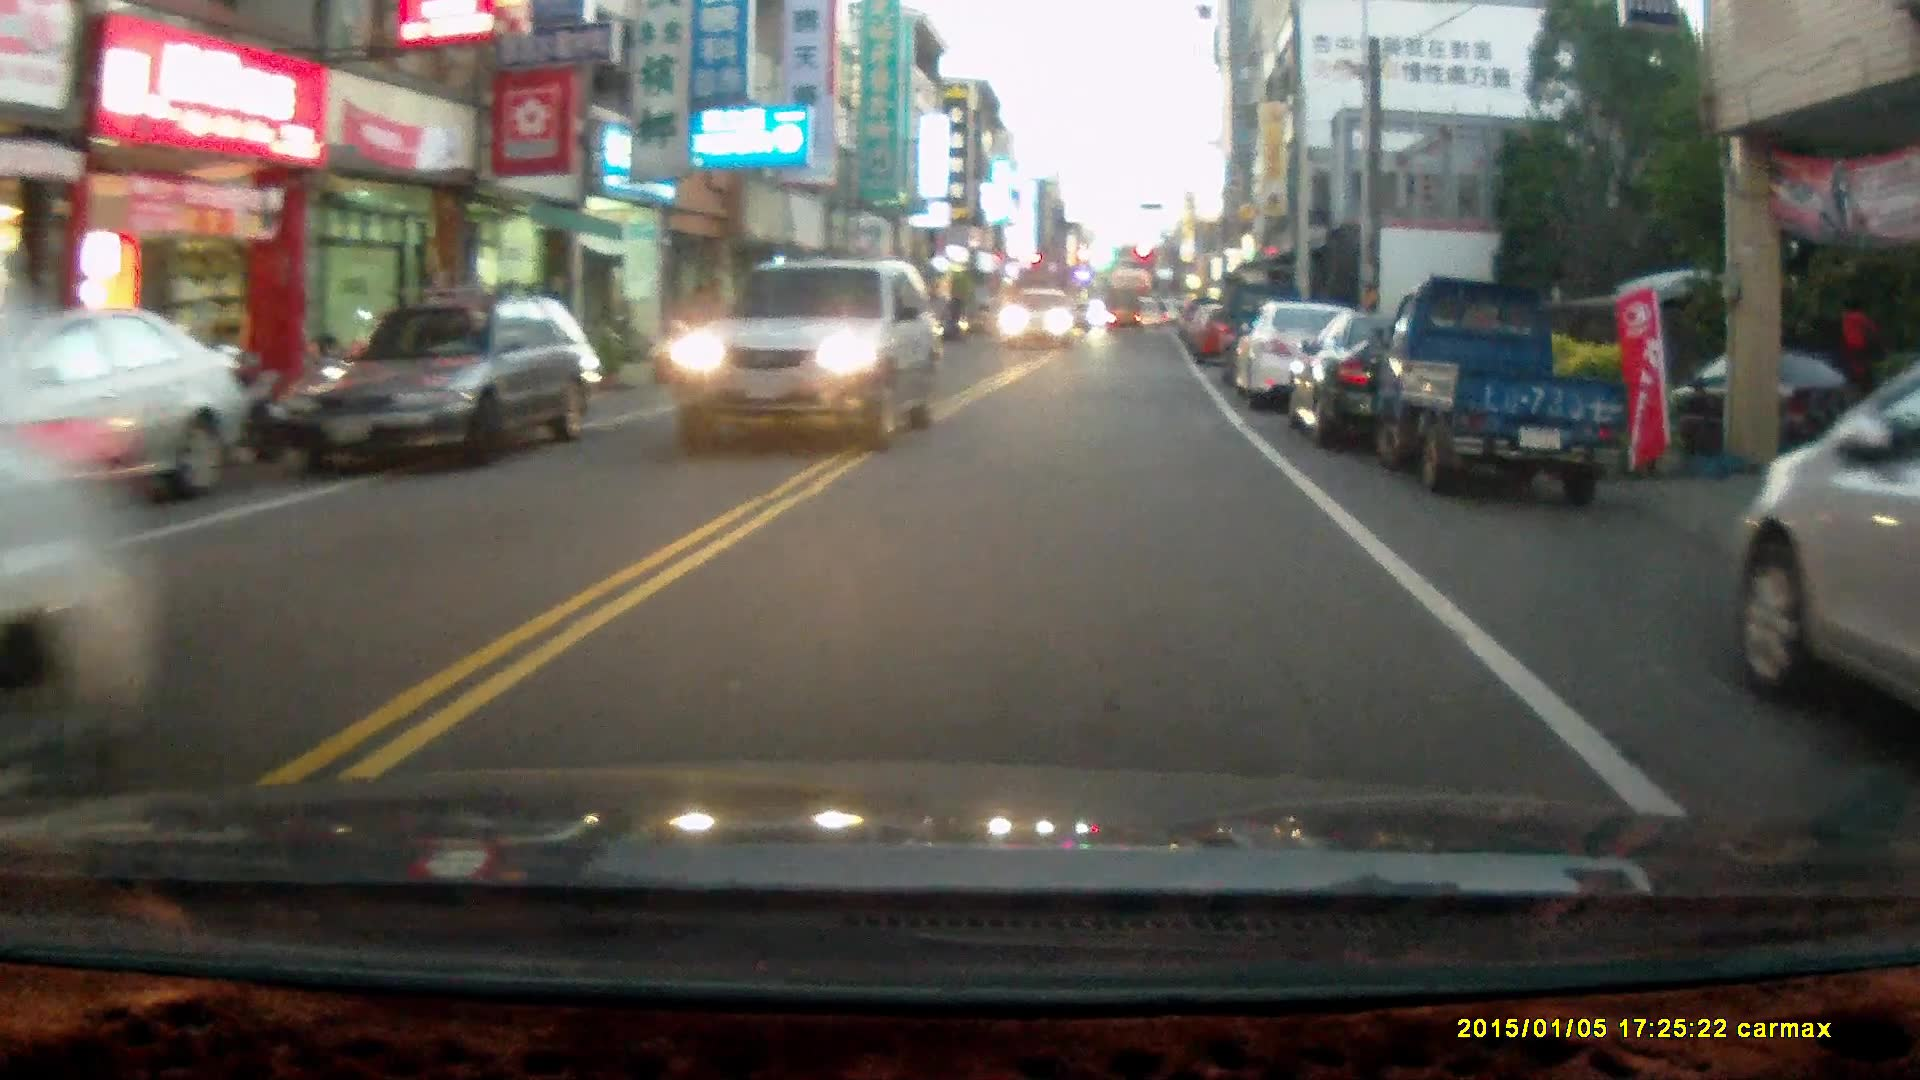pedestrian: (1831, 293, 1888, 477)
vehicle: (1, 294, 161, 814), (1736, 356, 1920, 728), (1370, 269, 1648, 505), (268, 289, 605, 476), (674, 254, 948, 448), (1297, 308, 1518, 445), (1233, 300, 1390, 408), (997, 287, 1081, 348)
